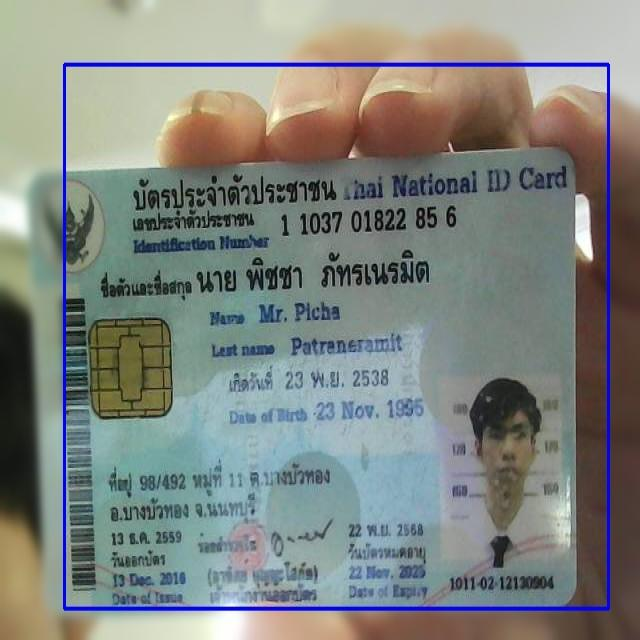Address_th: (99, 455, 335, 526)
Date_of_Birth: (314, 393, 427, 427)
Date_of_Expiry: (344, 561, 429, 586)
Date_of_Issue: (107, 568, 190, 588)
First_Name: (257, 296, 343, 328)
ID_Number: (279, 202, 458, 238)
Image: (441, 374, 563, 567)
Last_Name: (289, 330, 405, 359)
Thai_Name: (194, 242, 437, 300)
